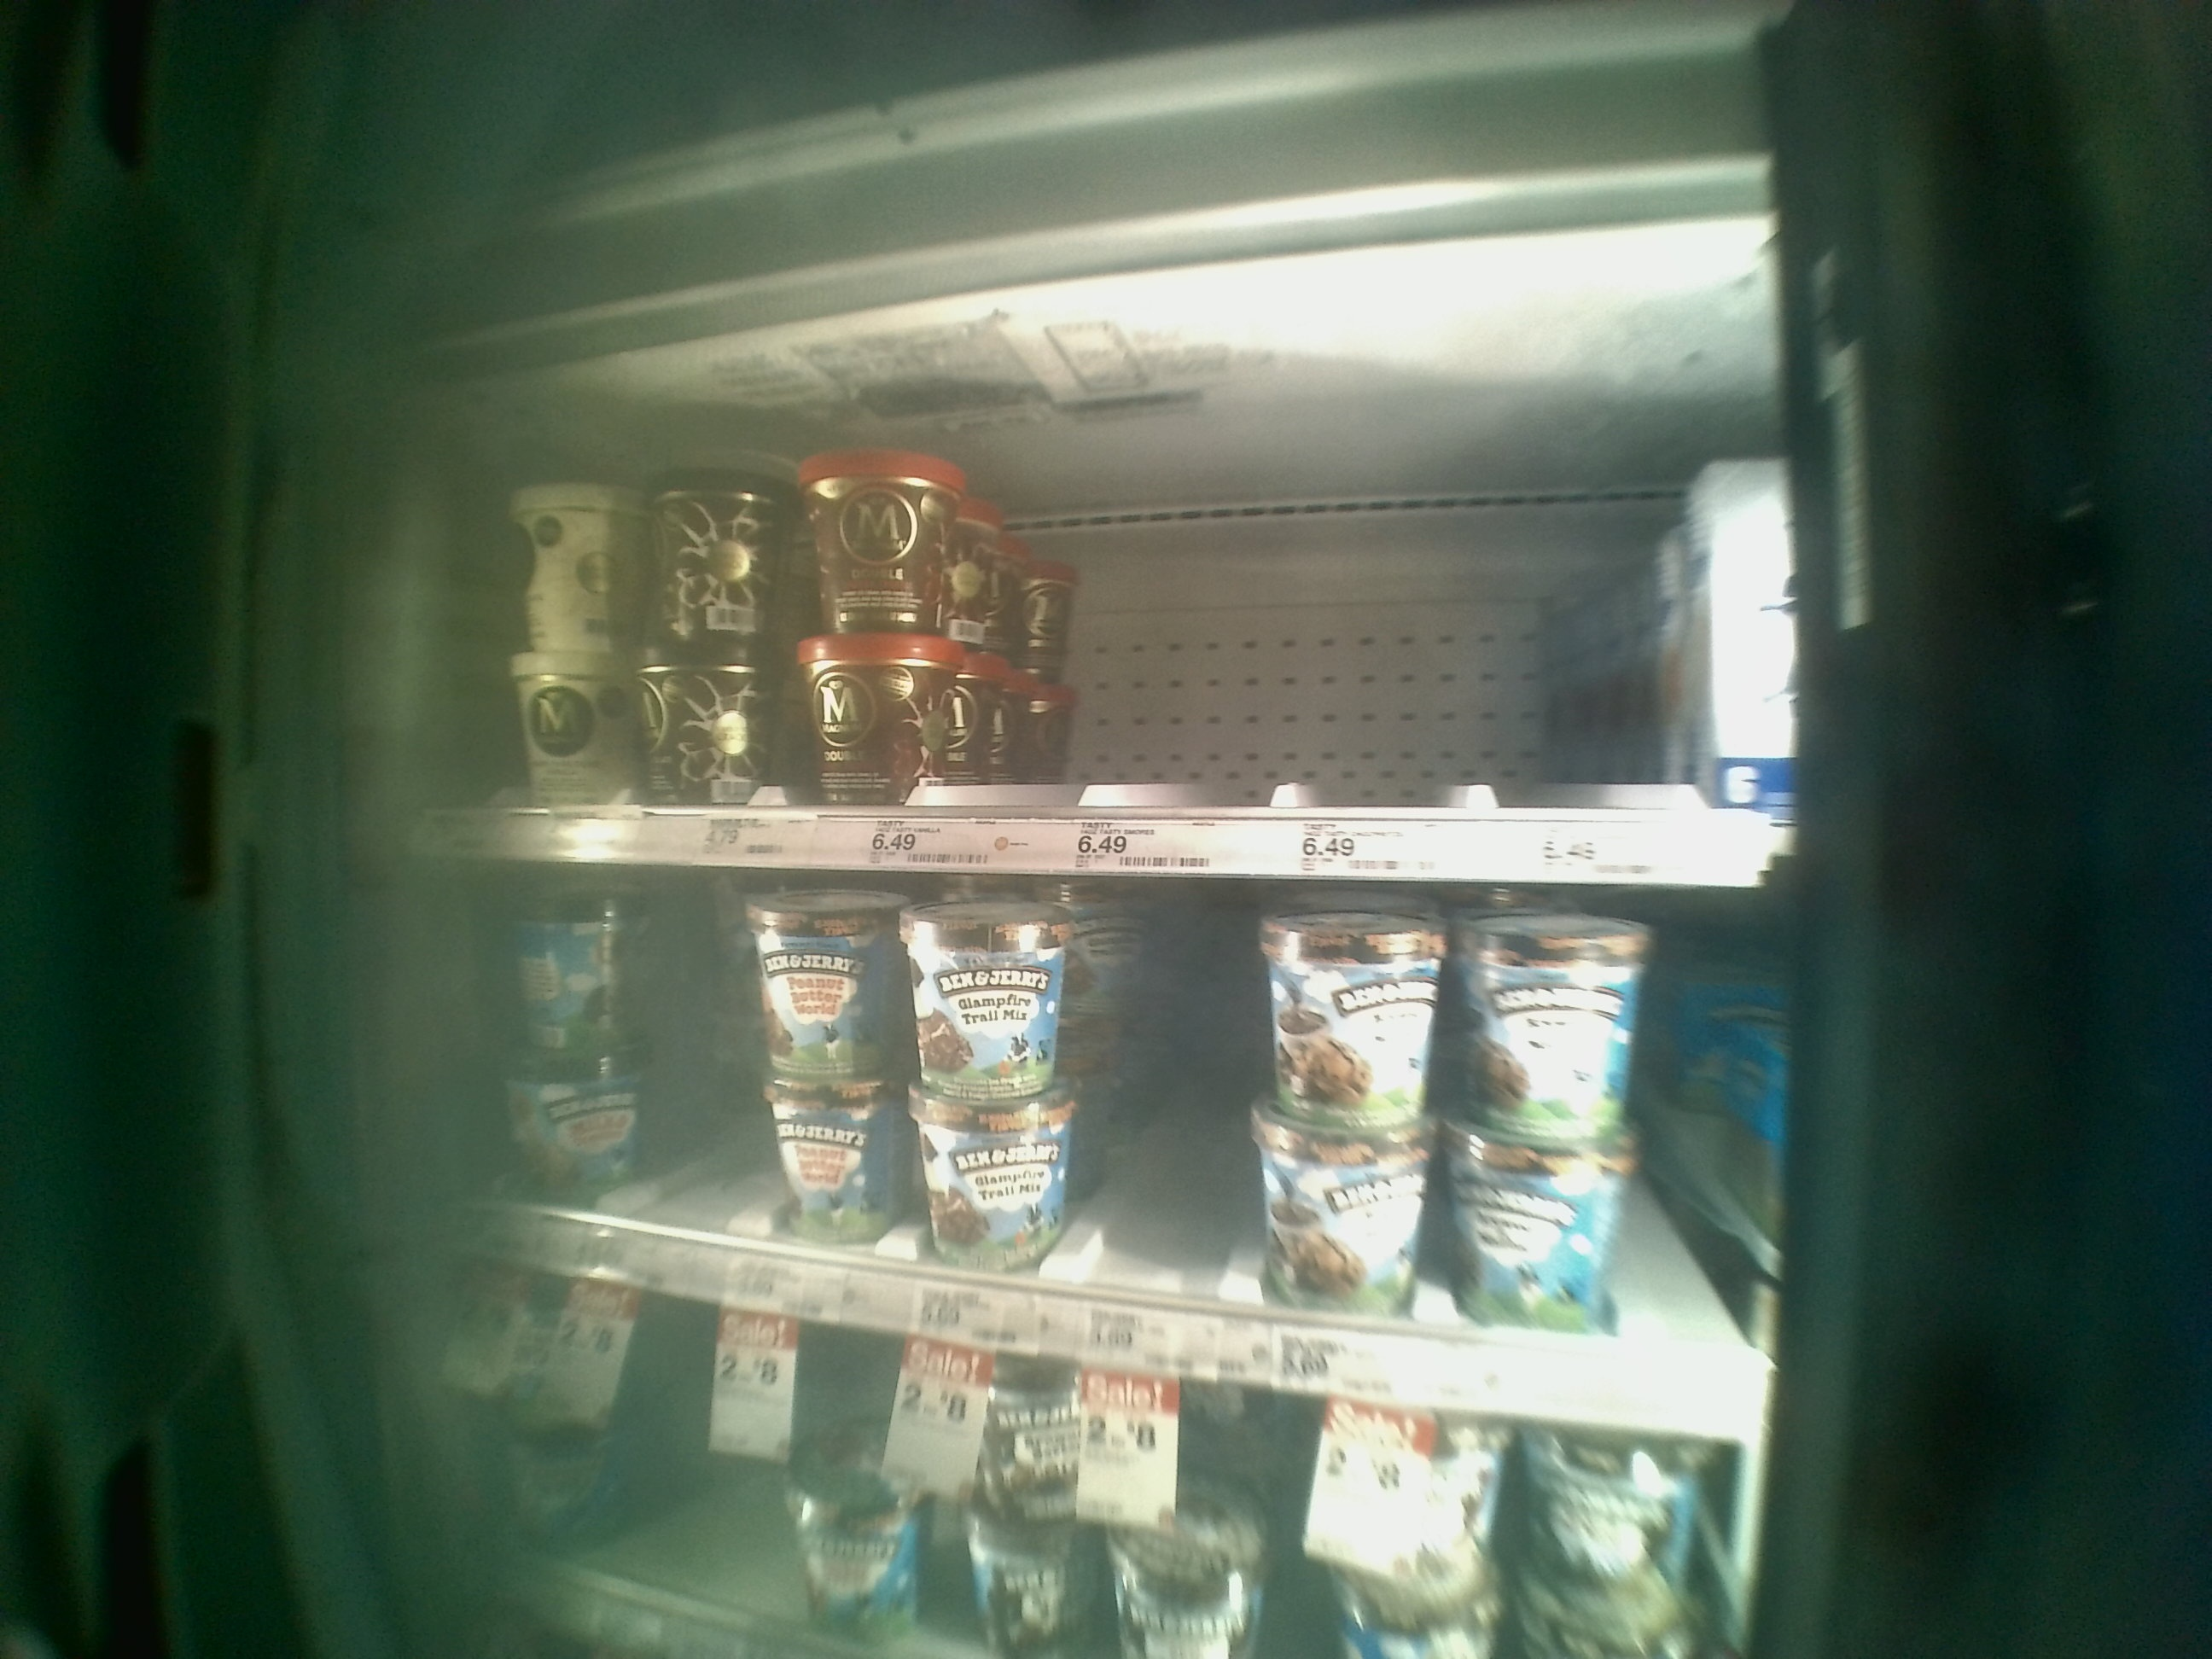shelf: (401, 864, 1797, 1431), (477, 392, 1799, 877)
